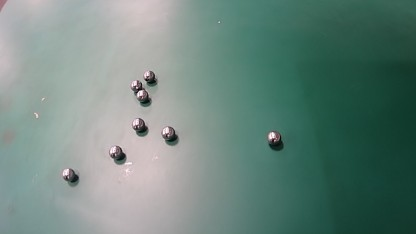ironball: (267, 131, 281, 145), (161, 126, 175, 140), (109, 145, 123, 159), (131, 118, 145, 131), (62, 168, 75, 181), (136, 89, 148, 103), (143, 70, 155, 82), (130, 80, 142, 92)
